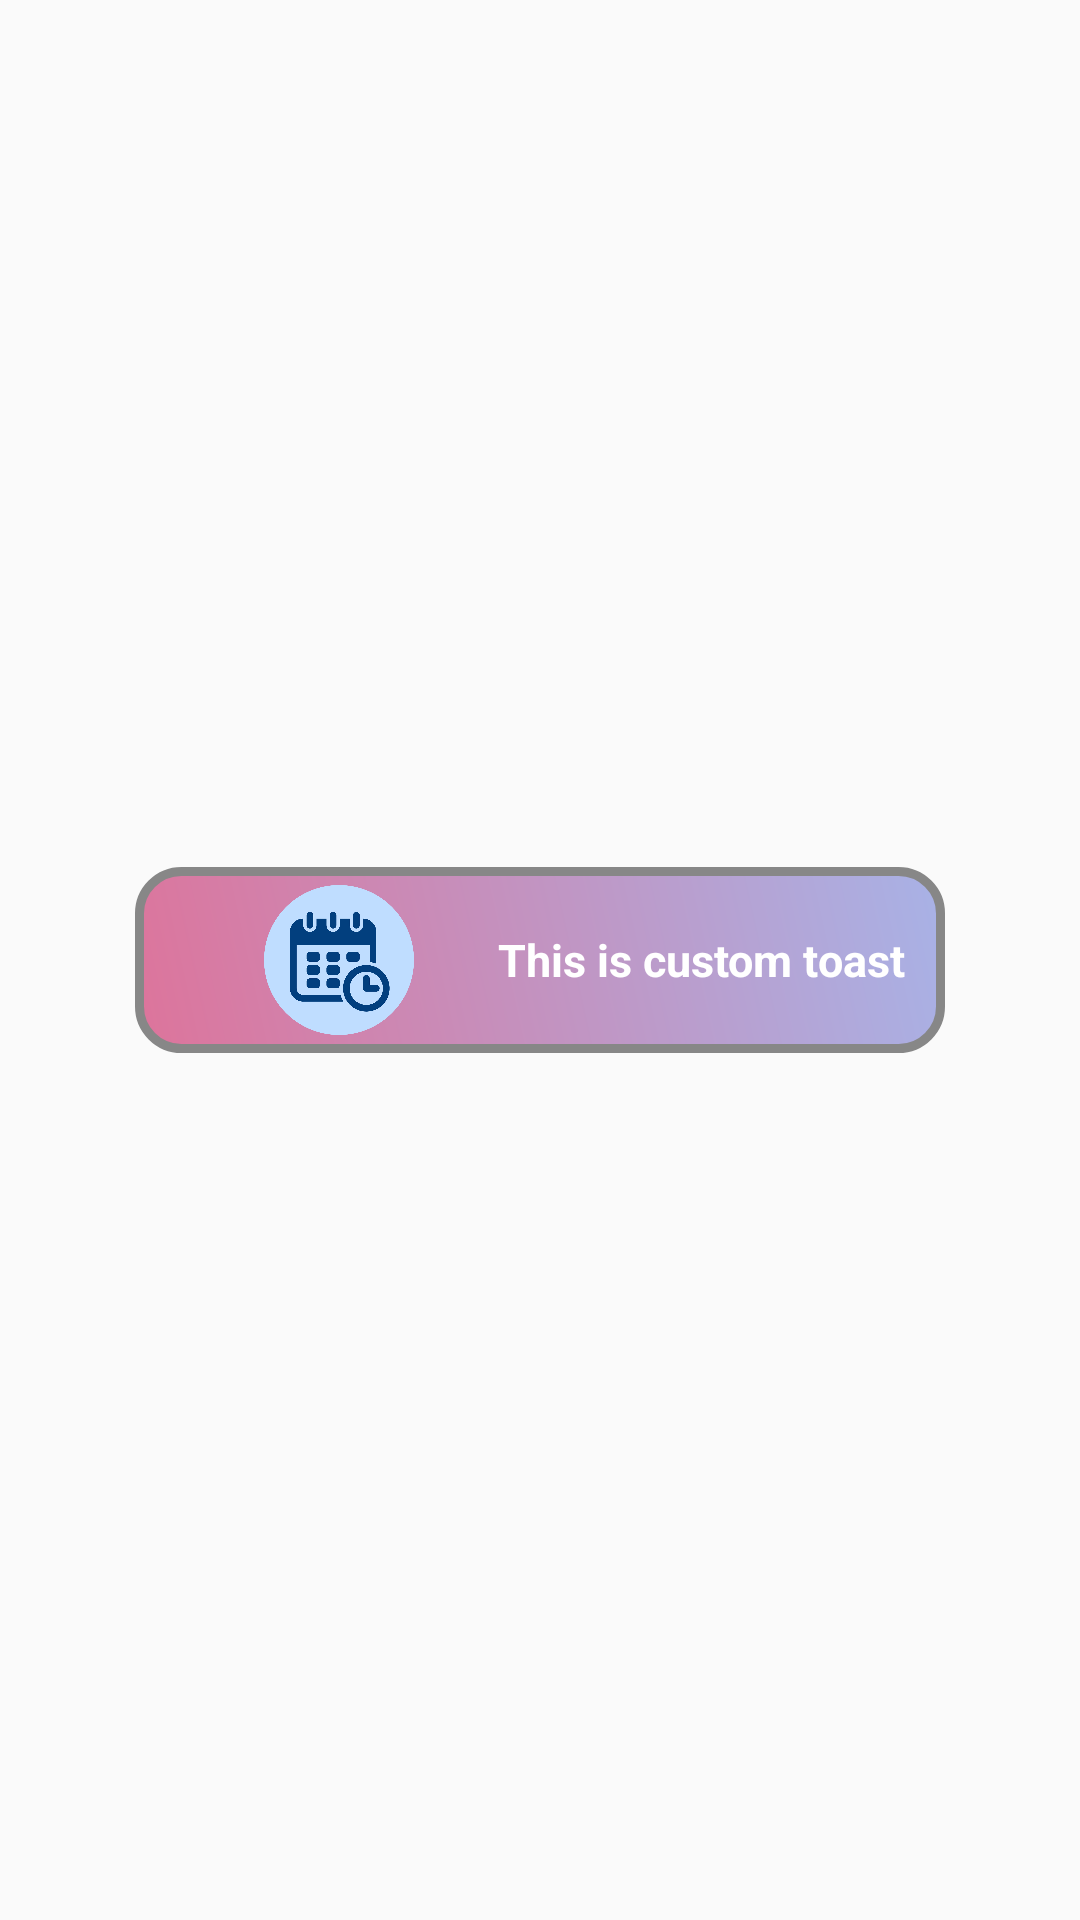

Icons on this 1080×1920 Android screen, each with its box as (x1,y1,x2,y2):
date: (264,885,414,1035)
